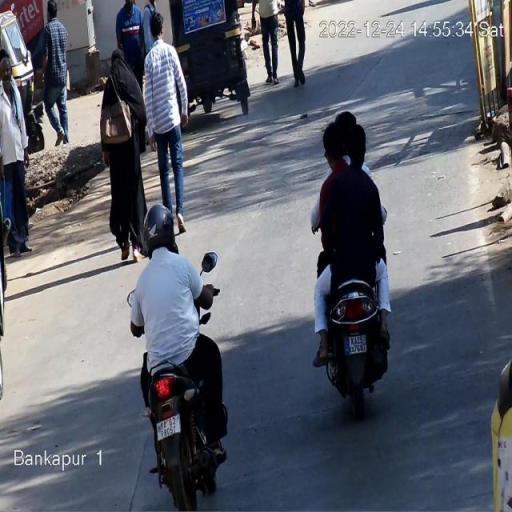tripple riding: (304, 105, 392, 287)
